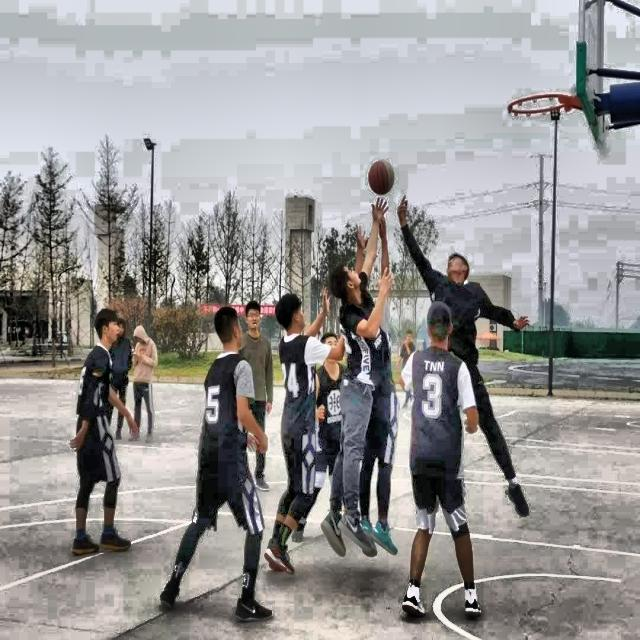board: (369, 161, 395, 195)
